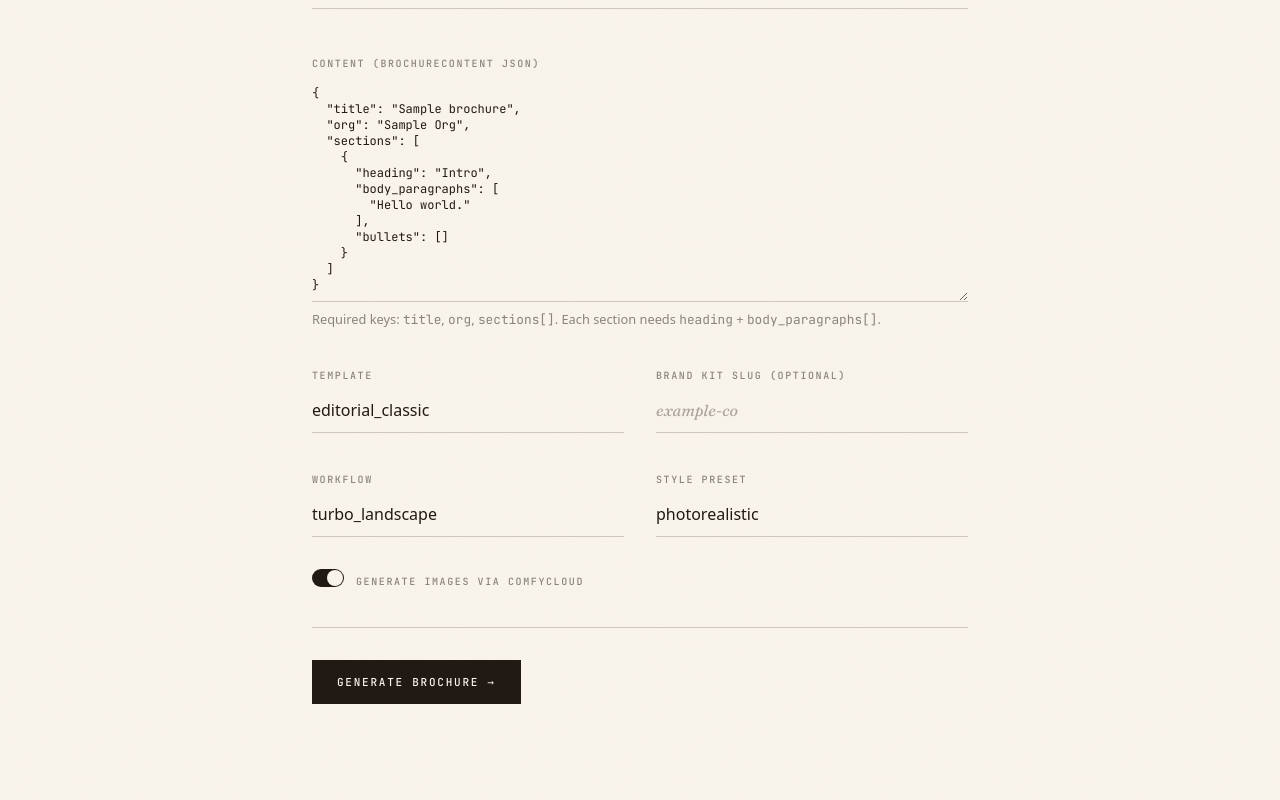
it: NewBrochurePage › submits the parsed content as the body.content field
(page scrolled)
Click the button "Generate brochure →" at (416, 682), box [312,660,521,704]
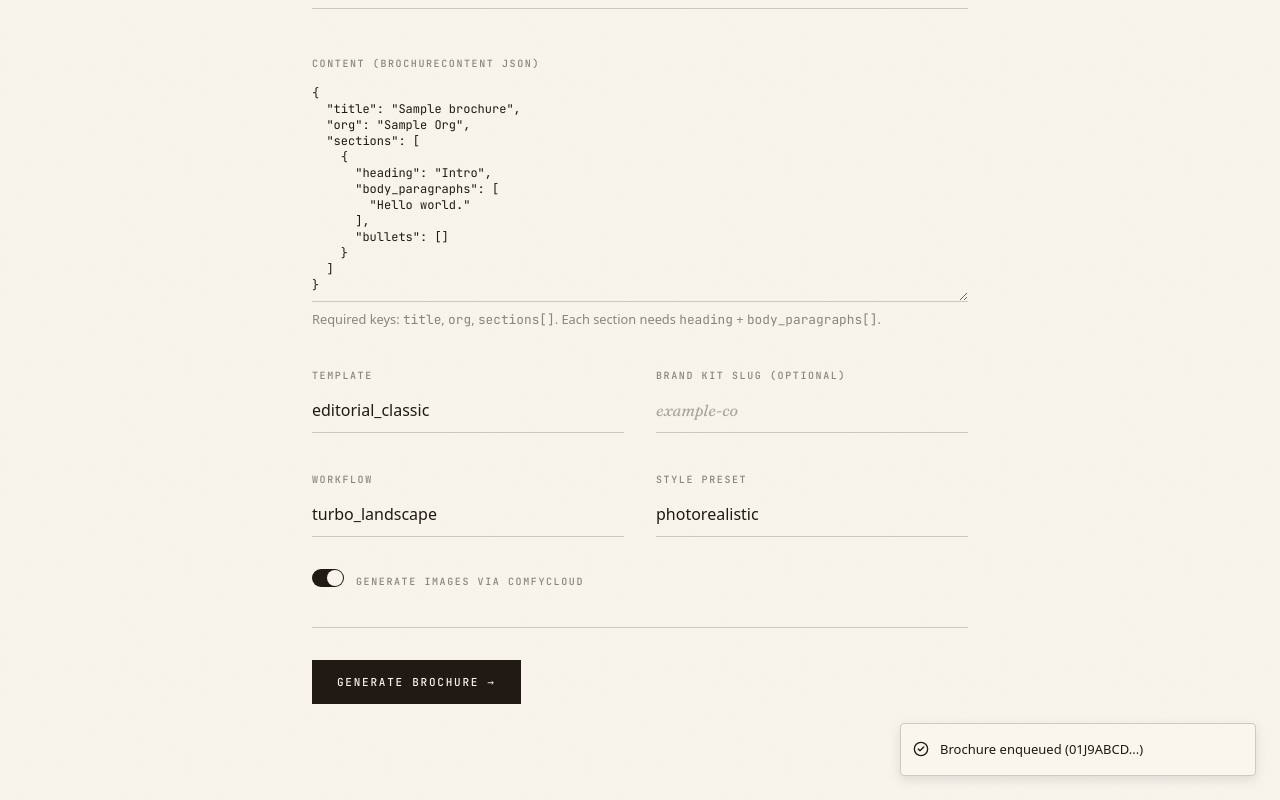
Check: the text "Brochure enqueued (01J9ABCD...)" is shown, box [940,740,1143,759]
